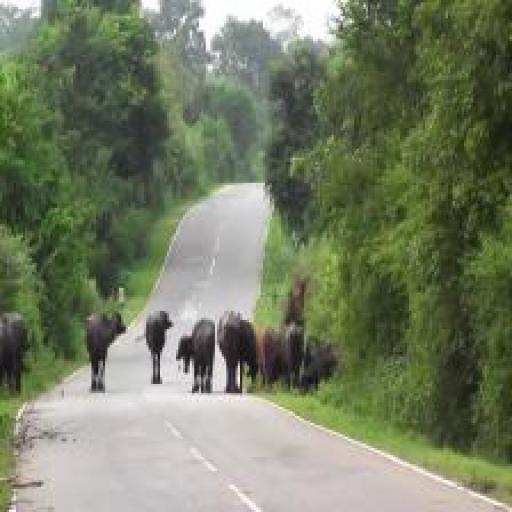Elephant: (284, 265, 316, 324)
